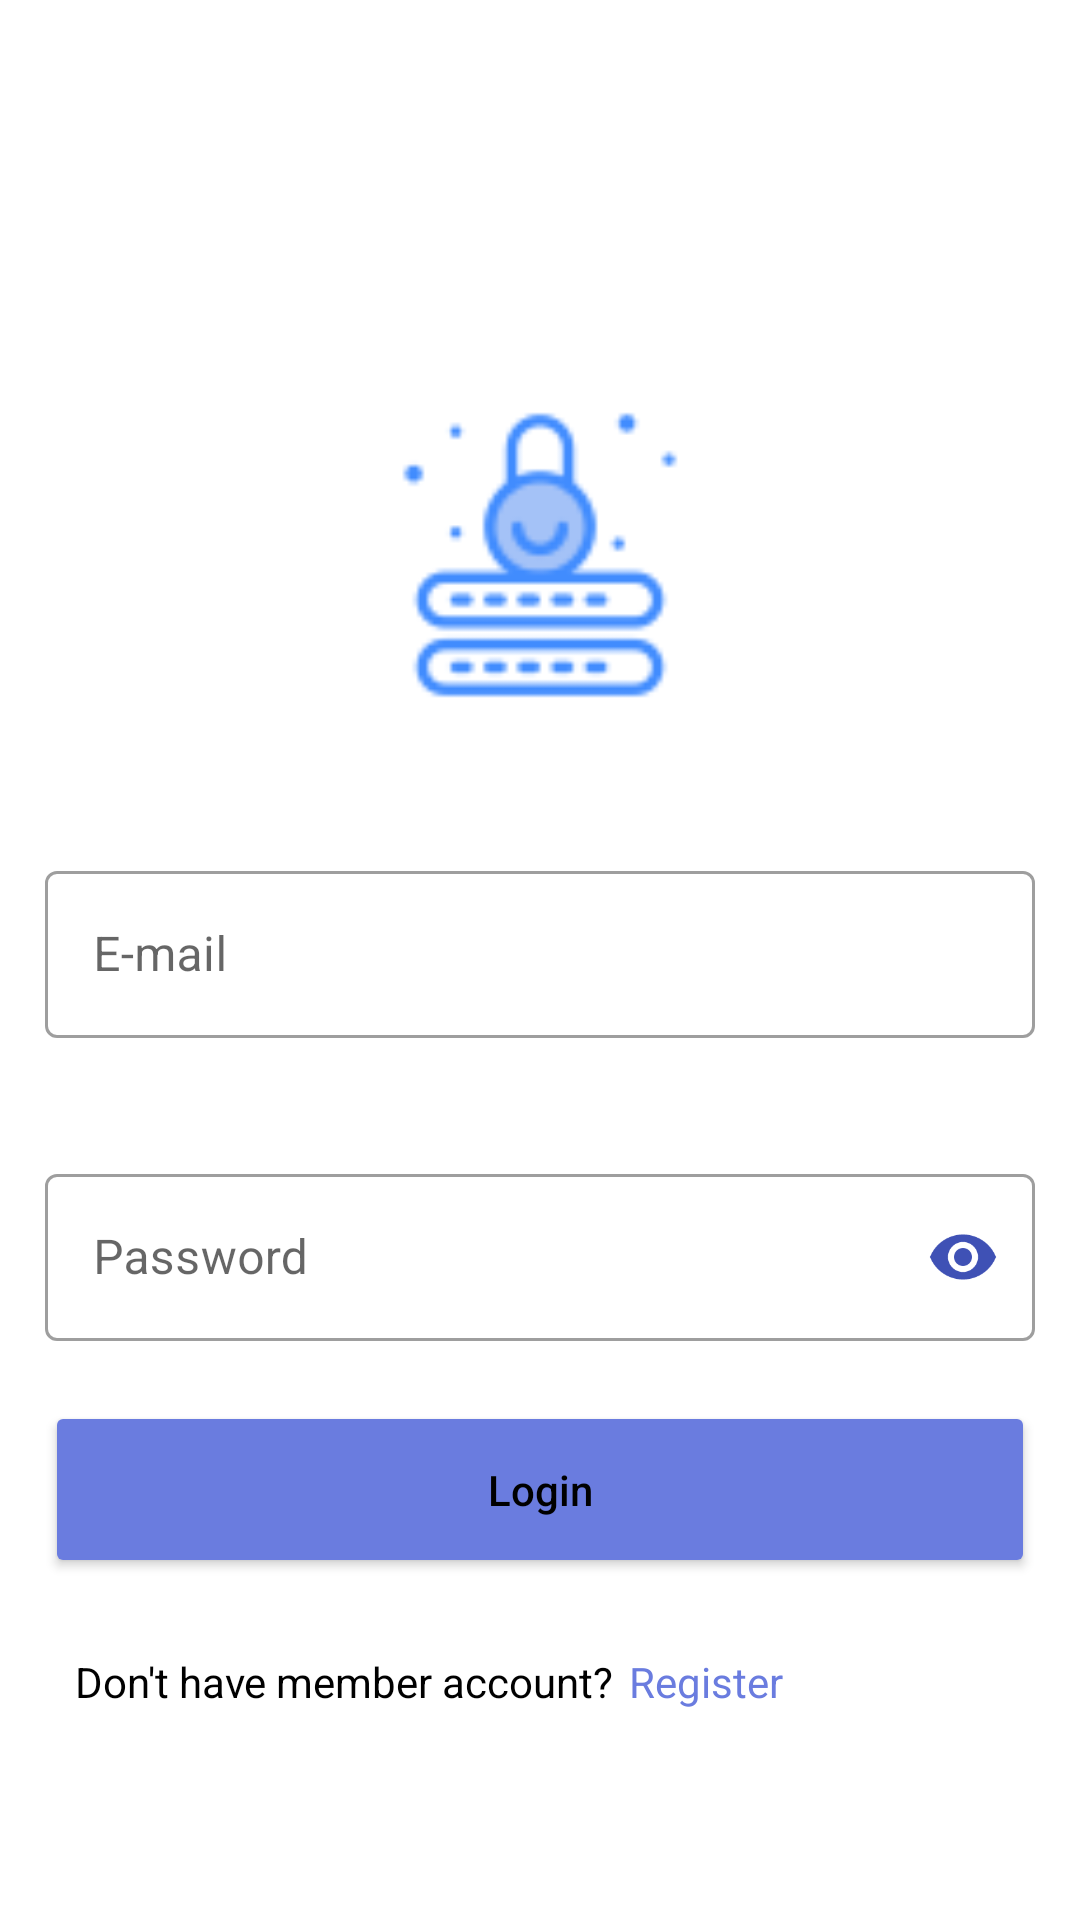

Icon click points for this 1080×1920 phone screenshot, format (x,y):
loginicon: (540,555)
